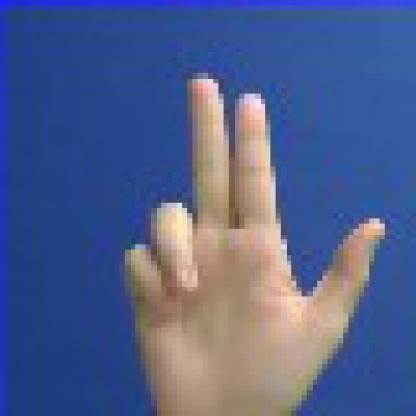eight: (95, 42, 391, 413)
